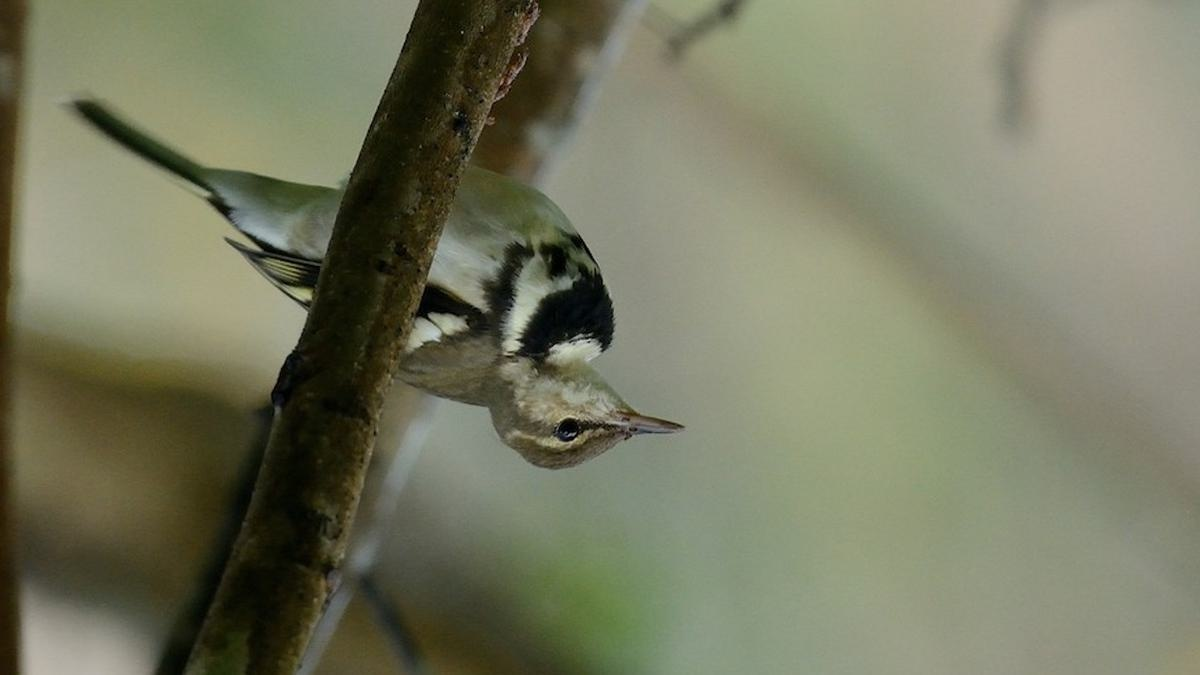wagtail: (203, 128, 686, 474)
